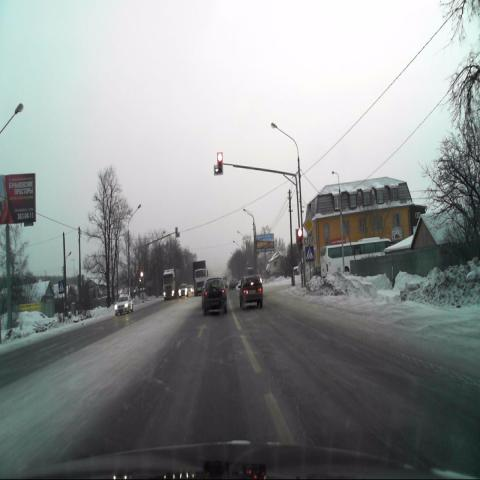2_1: (303, 215, 314, 235)
5_19_1: (305, 246, 314, 261)
